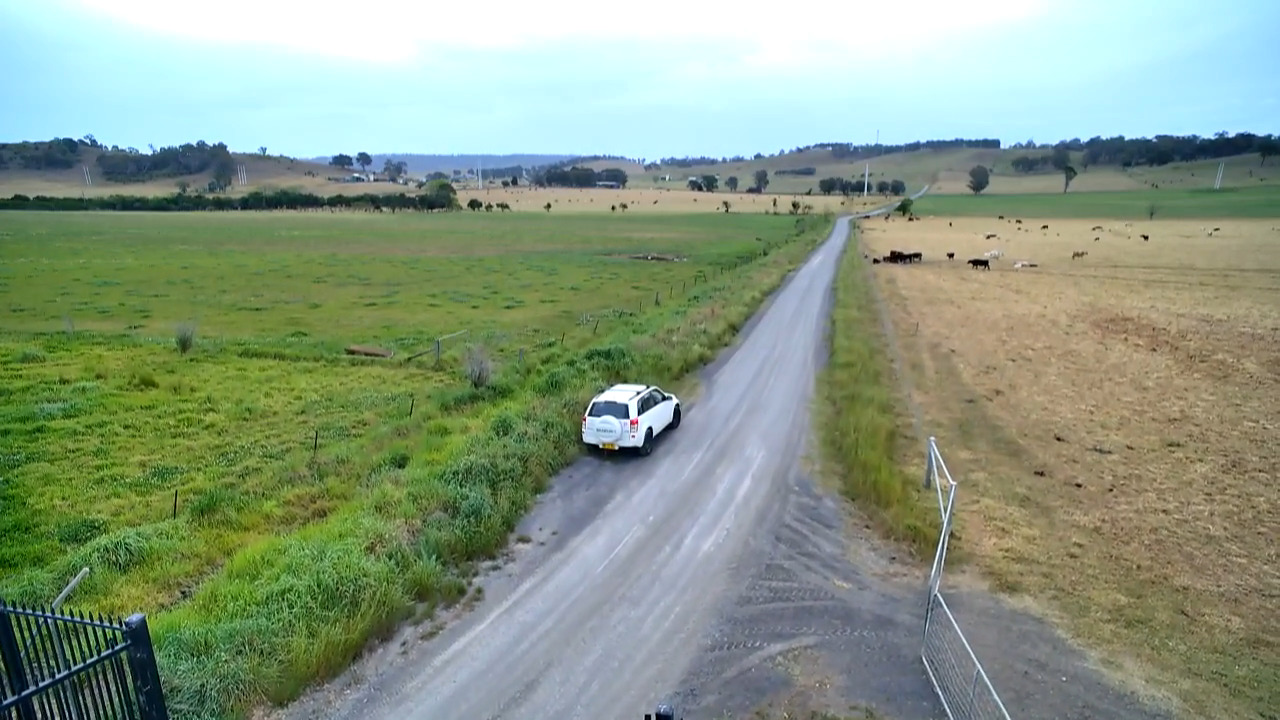Car: (582, 383, 682, 454)
